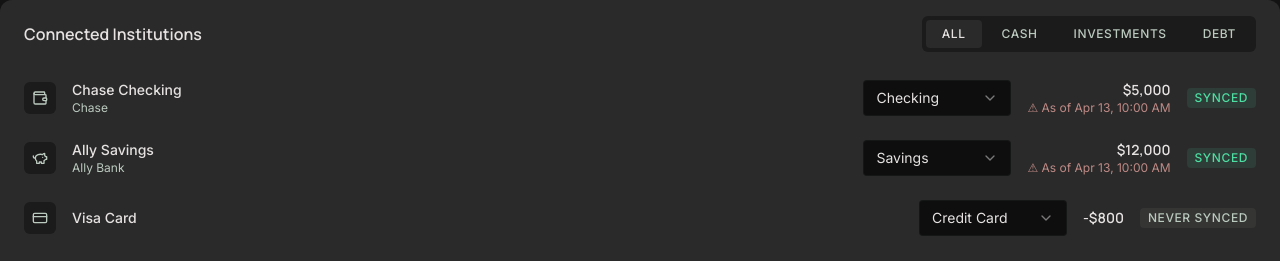
Test case: ConnectedInstitutions › pressing Escape cancels the rename without a PATCH
Click the button with aria-label "Rename account Chase Checking" at (136, 90), box [72,80,200,100]
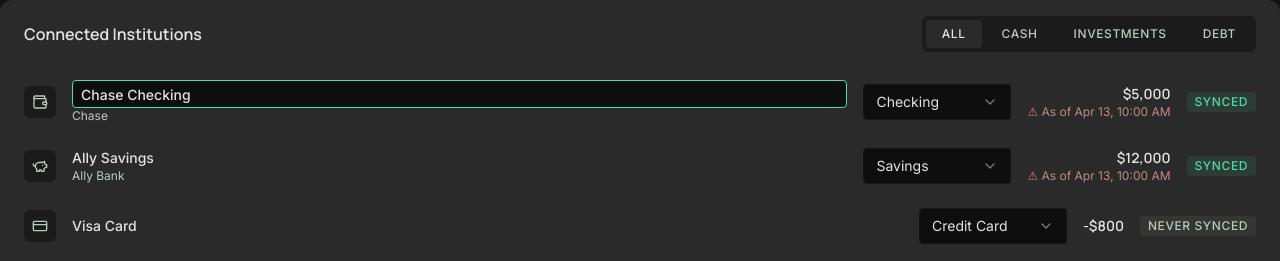
Replace the text in the field named "Account name for Chase Checking" with "Discarded Name" at (460, 94), box [72,80,848,108]
Then press Escape
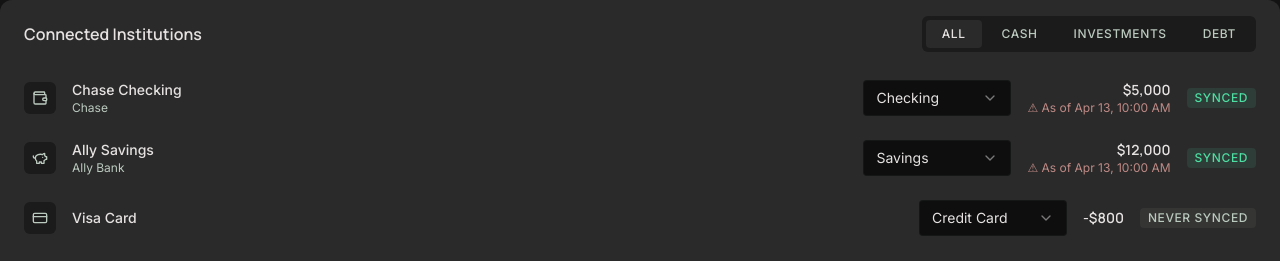
Now the text "Chase Checking" is shown, box [72,80,182,100]
